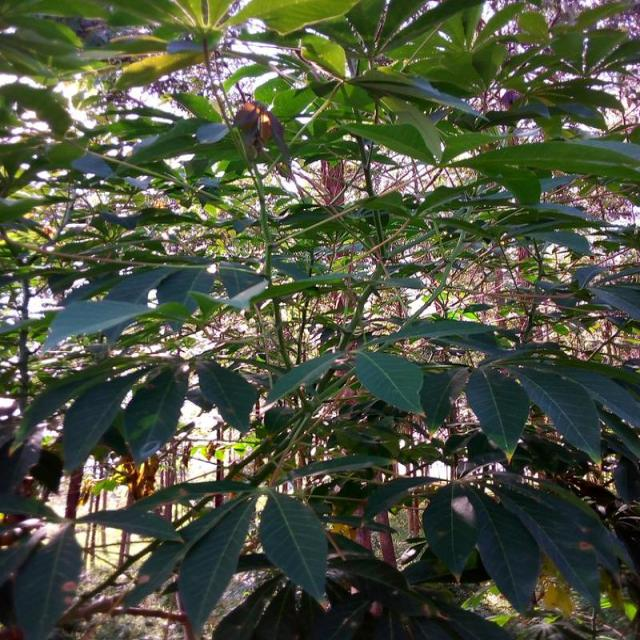cassava leaf: (1, 0, 638, 638), (258, 489, 328, 602), (353, 348, 424, 416)
